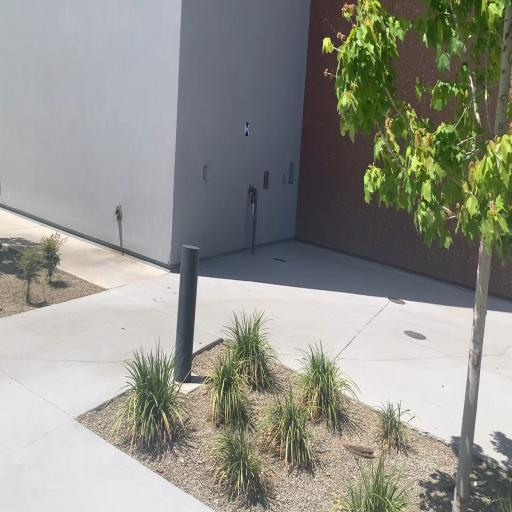target3: (244, 121, 250, 138)
